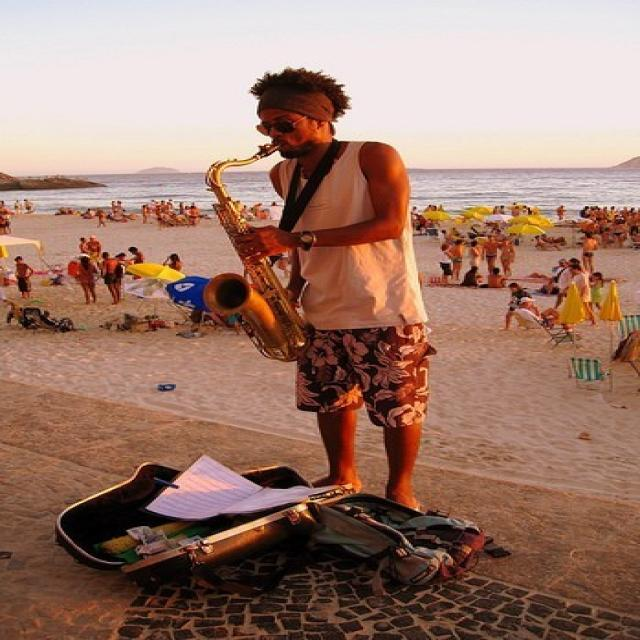saxophone: (199, 140, 311, 362)
